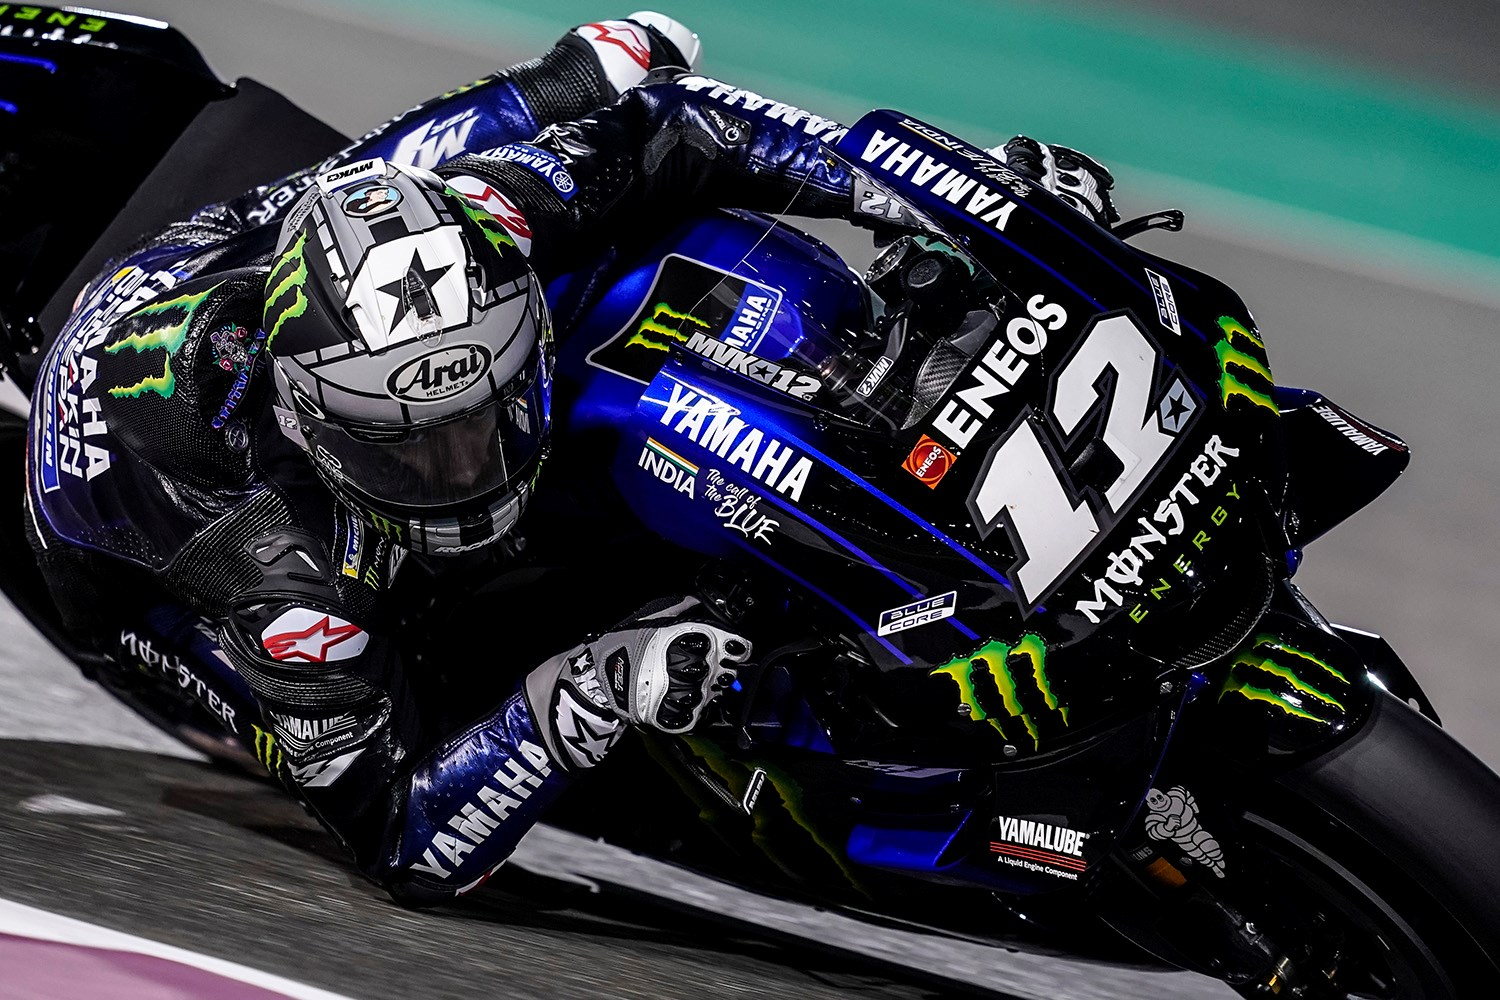helmet: (255, 167, 565, 558)
